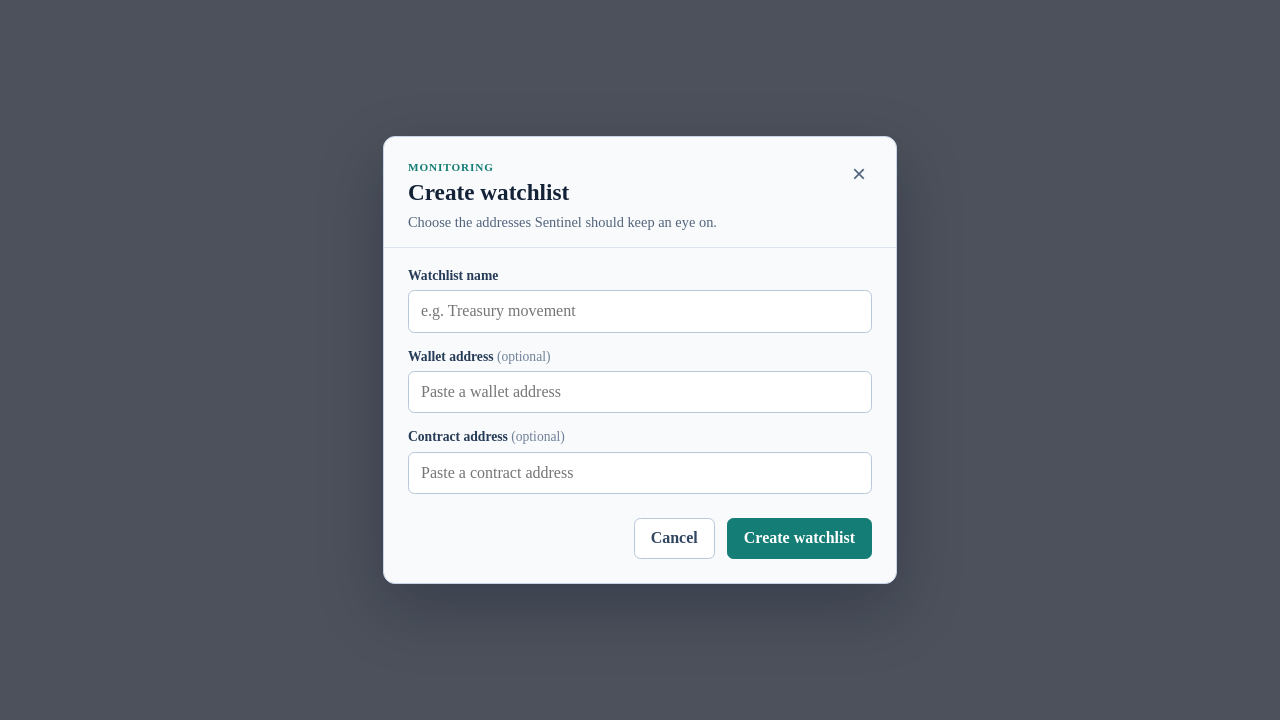
Scenario: WatchlistCreationModal › requires a name and at least one target
Click the button "Create watchlist" at (799, 538), box left=727, top=518, right=872, bottom=559
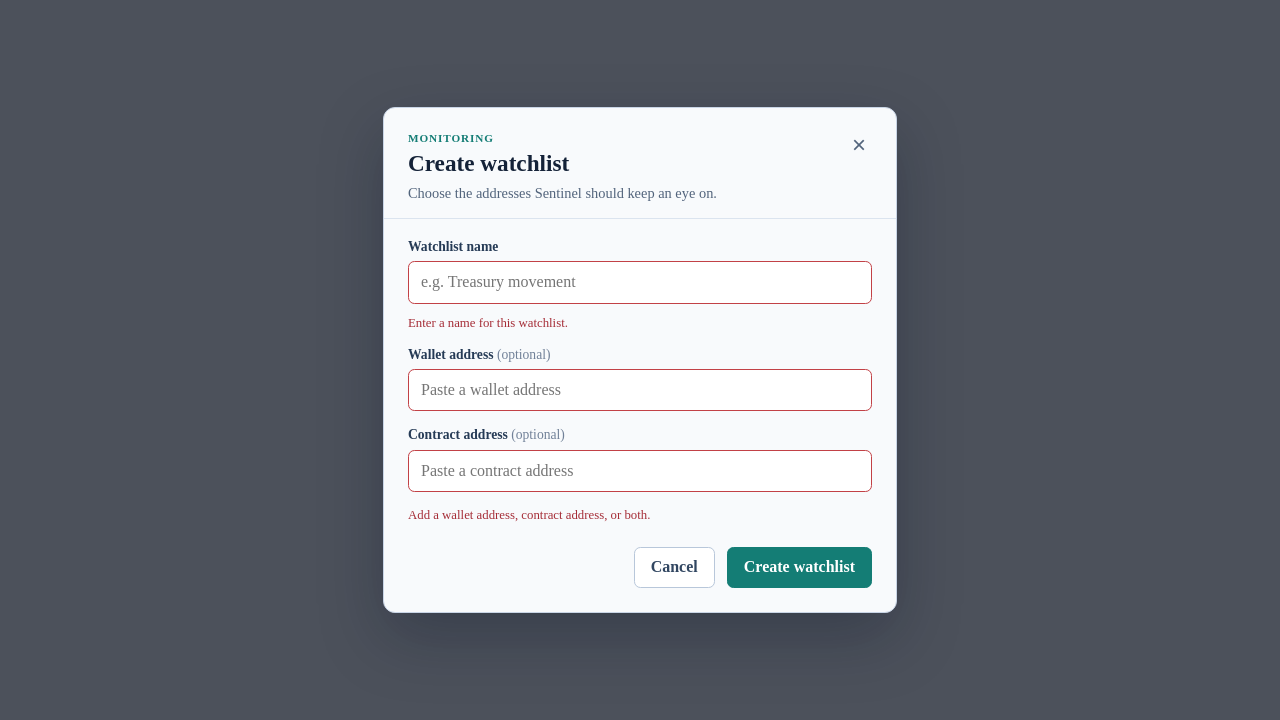
expect the text "Enter a name for this watchlist." is shown: met, box left=408, top=316, right=568, bottom=330
expect the text "Add a wallet address, contract address, or both." is shown: met, box left=408, top=508, right=650, bottom=522
